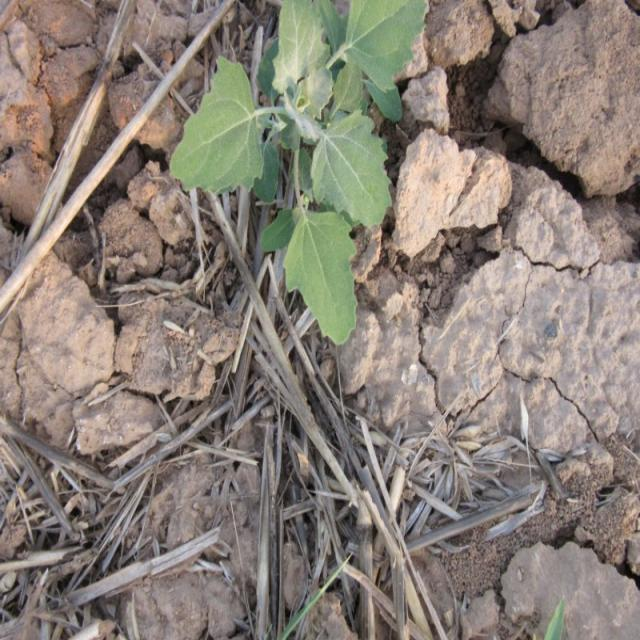ca: (168, 0, 419, 345)
